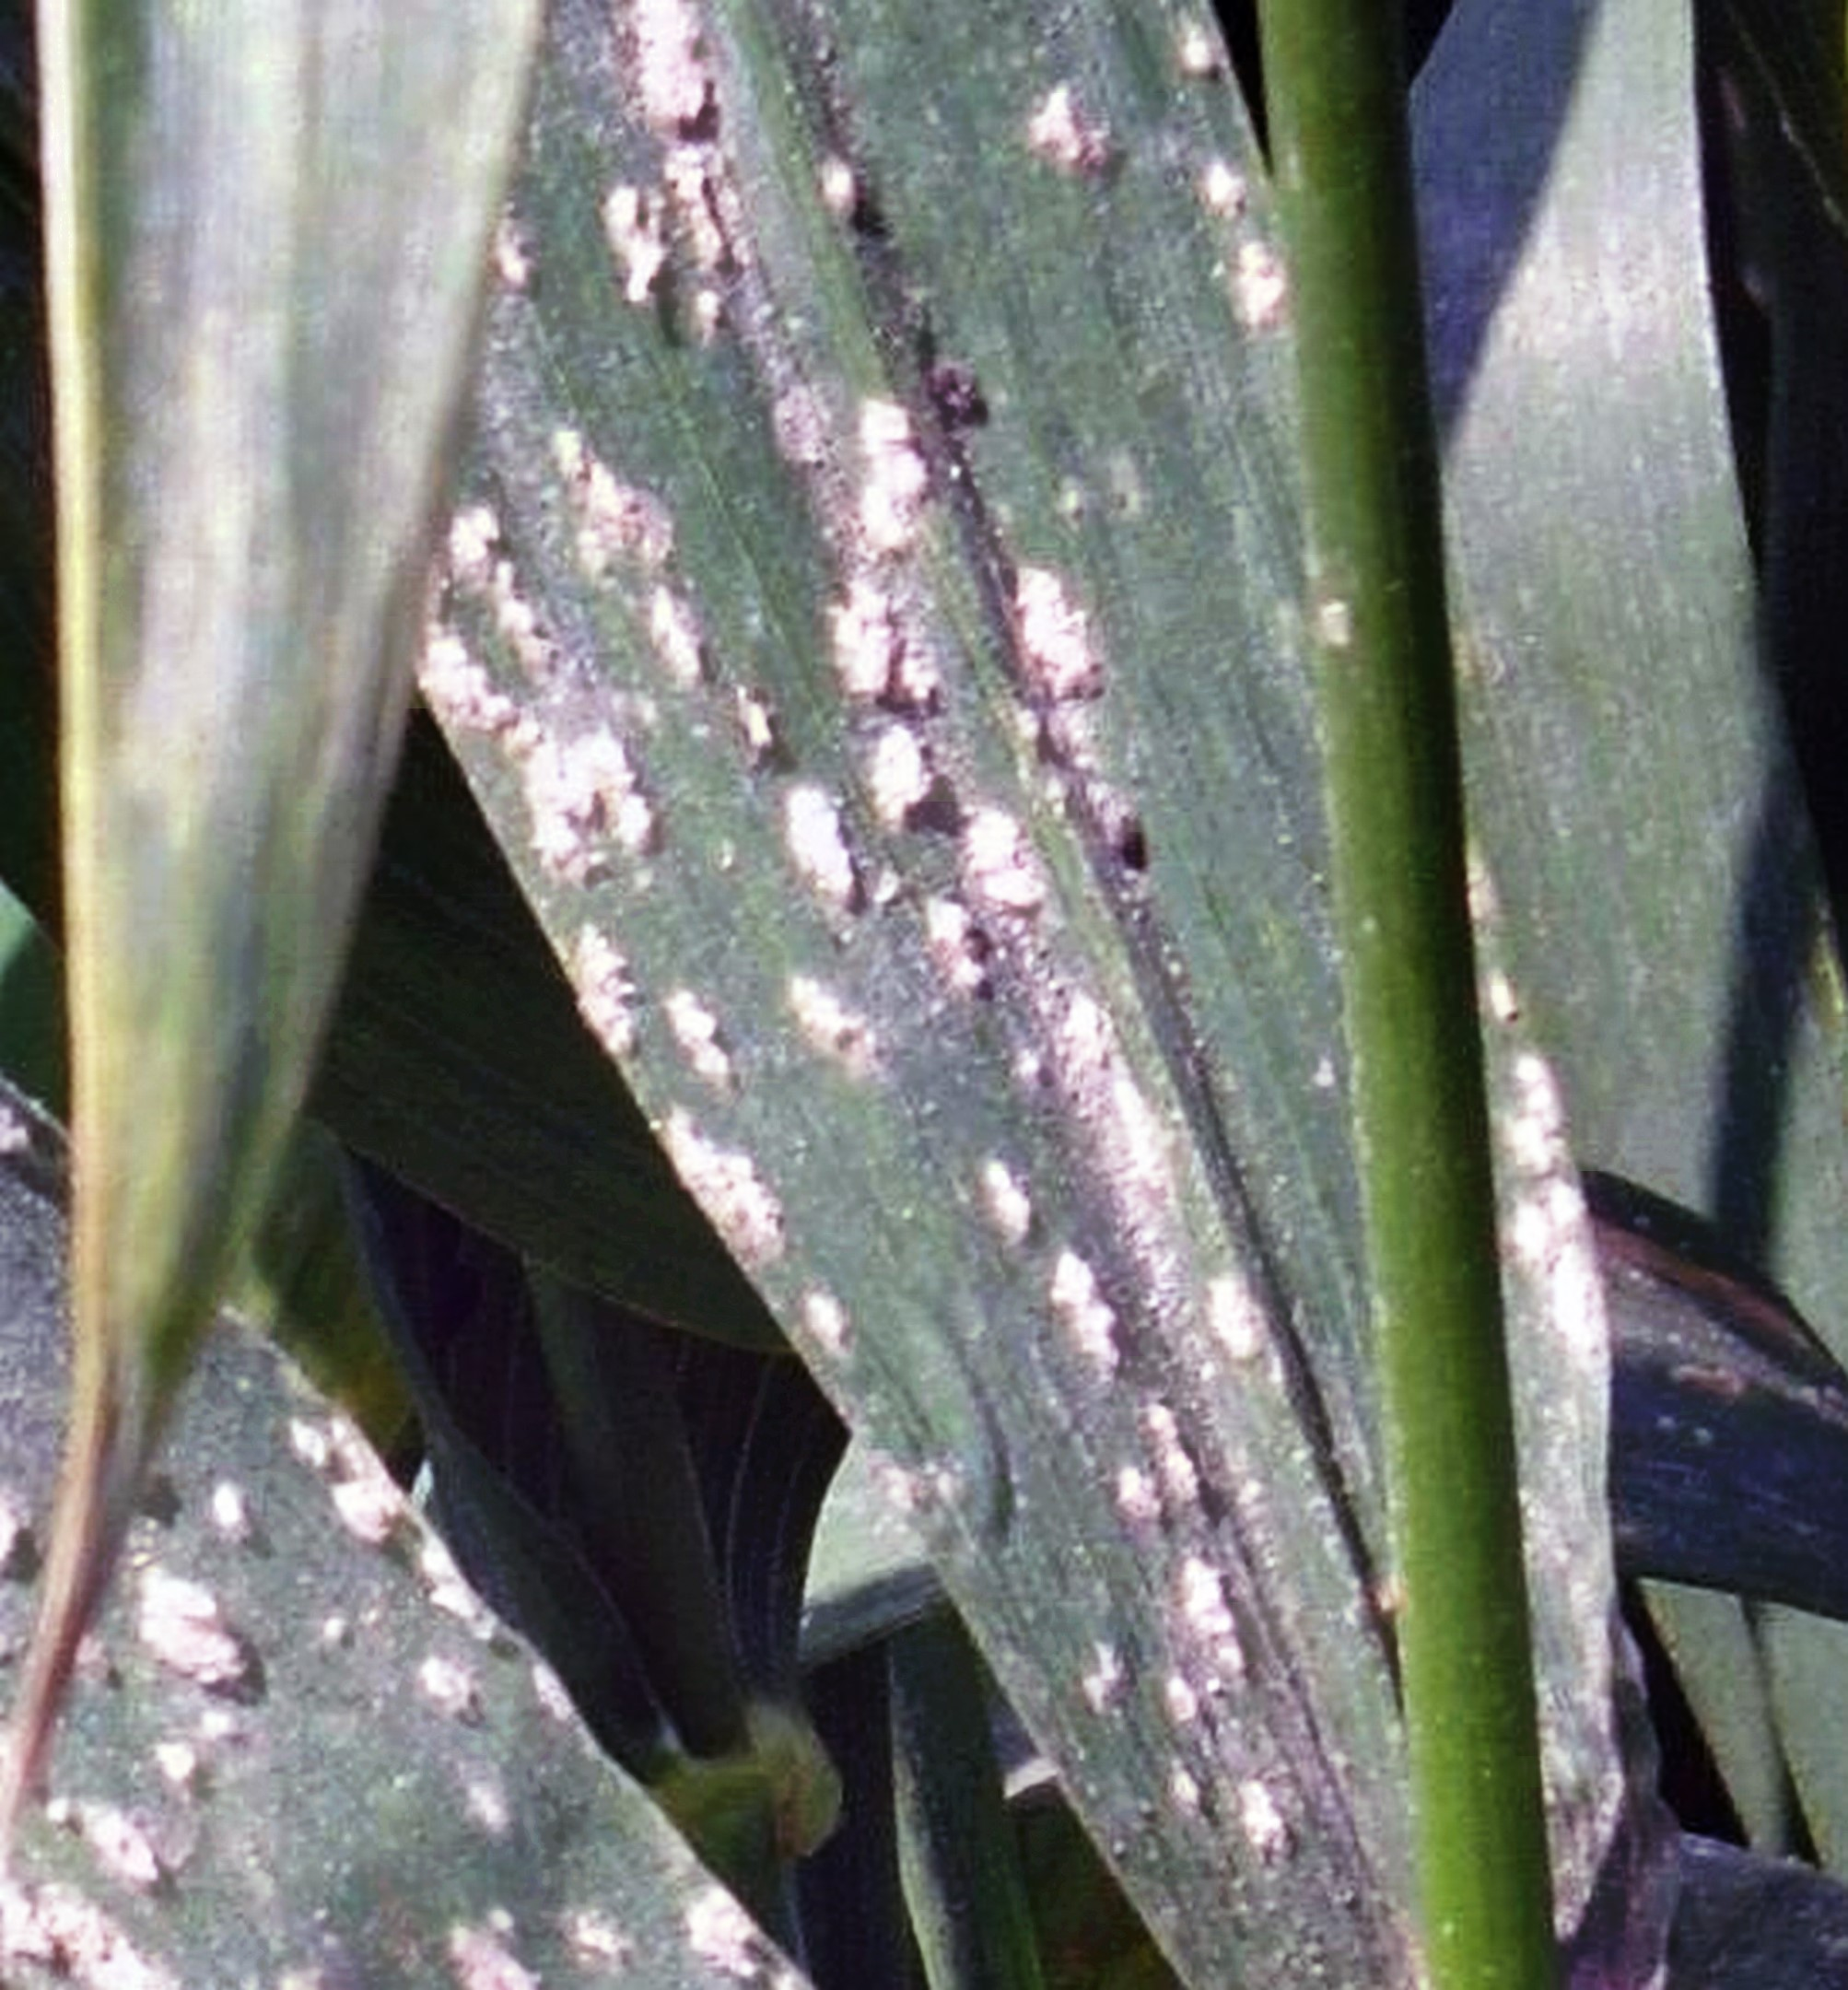Powdery Mildew: (426, 109, 1384, 1521)
